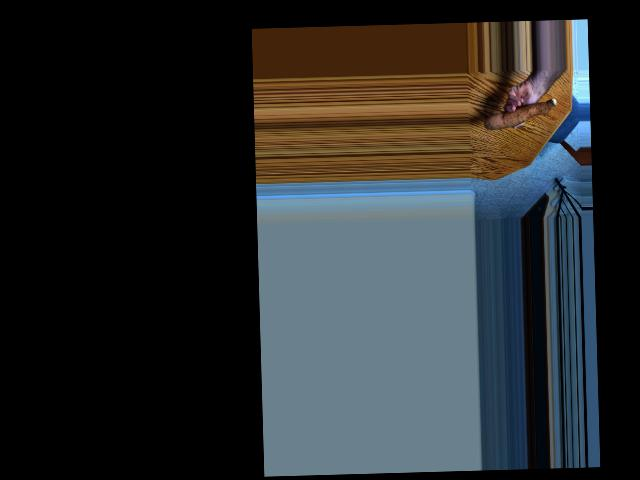sweet_potato: (486, 91, 557, 133)
